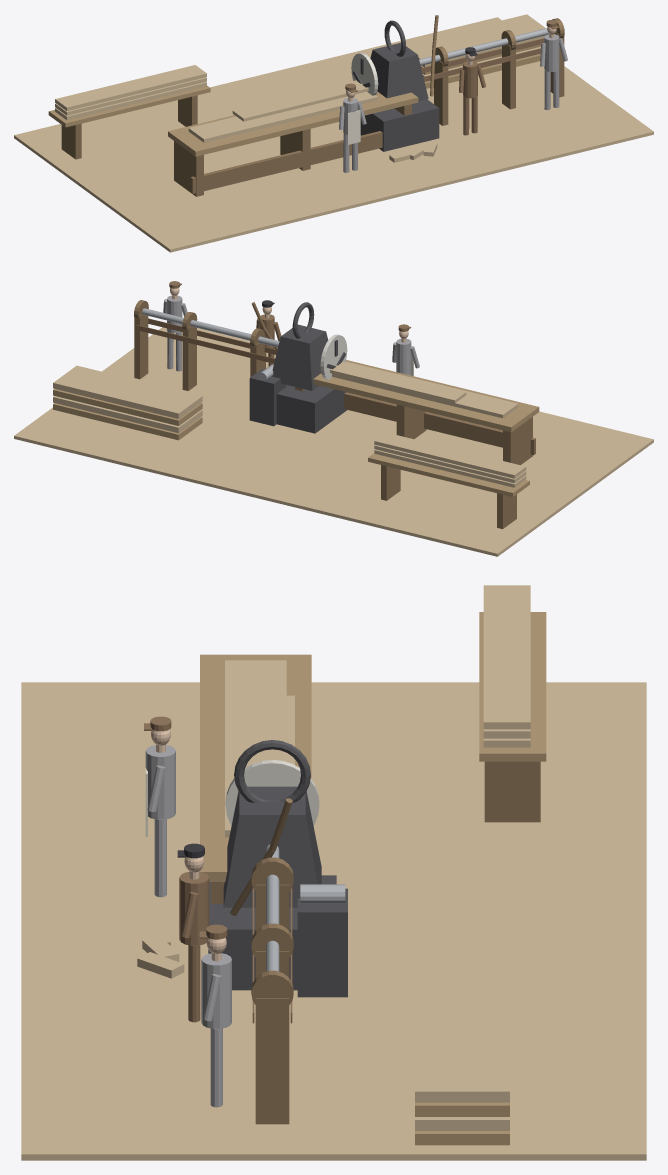
File: scan-fig38-woodworking-machinery-1850-muse.glb
3 views of the same model, one above another, from view 1: azimuth 30°, elevation 25°; view 2: azimuth 150°, elevation 25°; view 3: azimuth 270°, elevation 25° (orthographic). The views are drawn at different scales.
Parts seen in each view (by area): view 1: Floor, BenchTop, BenchRailLow, MachineBase, PlankStack_3, BenchPlank, MachineHousing, BackPlank_2, BenchPlank2, BackBench, BenchLeg_-3.4, BenchLeg_-1.2 (+16 smaller); view 2: Floor, PlankStack_3, BenchTop, MachineBase, MachineHousing, BenchRailLow, BackPlank_2, BenchPlank2, BenchPlank, BackBench, RollerStand, PlankStack_0 (+15 smaller); view 3: Floor, PlankStack_3, BenchTop, MachineHousing, BackPlank_2, RollerStand, ShaftPost_4.3, BenchPlank, BackBench, BackBenchLeg_-2.1, MachineBase, BenchPlank2 (+17 smaller).
Boxes of the visible parts, bbox=[...] form: Floor: bbox=[14, 17, 653, 252]; BenchTop: bbox=[168, 91, 418, 156]; BenchRailLow: bbox=[190, 131, 382, 193]; MachineBase: bbox=[360, 99, 439, 151]; PlankStack_3: bbox=[406, 14, 545, 67]; BenchPlank: bbox=[188, 91, 377, 142]; MachineHousing: bbox=[370, 43, 428, 101]; BackPlank_2: bbox=[55, 65, 206, 110]; BenchPlank2: bbox=[232, 80, 368, 121]; BackBench: bbox=[48, 85, 210, 127]; BenchLeg_-3.4: bbox=[174, 141, 203, 196]; BenchLeg_-1.2: bbox=[280, 129, 310, 170]; Floor: bbox=[14, 327, 653, 556]; PlankStack_3: bbox=[53, 365, 202, 418]; BenchTop: bbox=[313, 360, 539, 432]; MachineBase: bbox=[276, 385, 346, 433]; MachineHousing: bbox=[272, 324, 328, 390]; BenchRailLow: bbox=[344, 392, 535, 455]; BackPlank_2: bbox=[374, 432, 526, 478]; BenchPlank2: bbox=[330, 362, 466, 403]; BenchPlank: bbox=[332, 361, 518, 418]; BackBench: bbox=[368, 453, 529, 496]; RollerStand: bbox=[249, 369, 286, 426]; PlankStack_0: bbox=[53, 403, 202, 440]; Floor: bbox=[21, 682, 646, 1160]; PlankStack_3: bbox=[415, 968, 509, 1102]; BenchTop: bbox=[200, 654, 311, 881]; MachineHousing: bbox=[223, 786, 321, 907]; BackPlank_2: bbox=[483, 585, 530, 729]; RollerStand: bbox=[297, 888, 347, 997]; ShaftPost_4.3: bbox=[255, 998, 289, 1124]; BenchPlank: bbox=[225, 660, 286, 837]; BackBench: bbox=[479, 612, 546, 761]; BackBenchLeg_-2.1: bbox=[484, 761, 540, 822]; MachineBase: bbox=[208, 875, 336, 990]; BenchPlank2: bbox=[250, 695, 294, 764].
Size of the model in its own units: 10 by 2.27 by 5.6.
